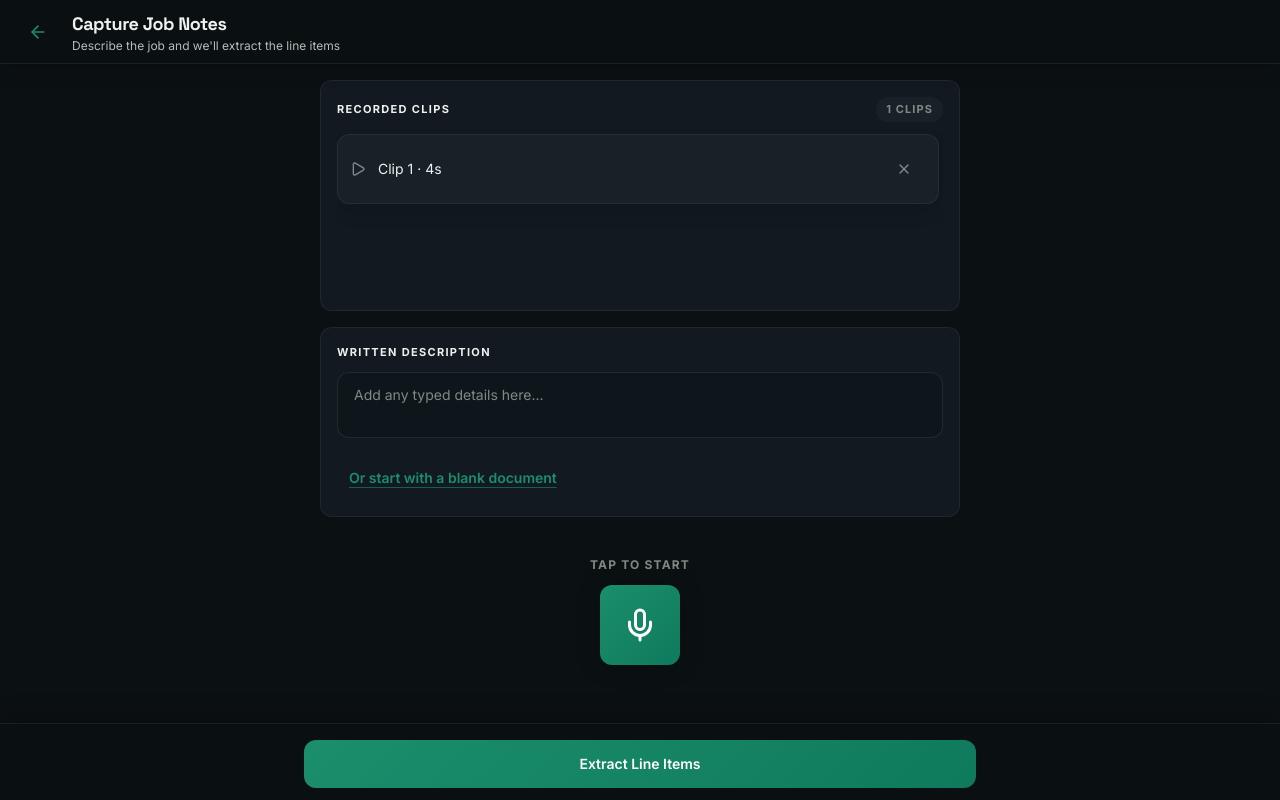
Test: CaptureScreen › preserves typed notes and recorded clips after extraction fails
The width and height of the screenshot is (1280, 800).
Type "Install sod in backyard" into the text box labelled "WRITTEN DESCRIPTION". click: coordinates (640, 405)
box: [337, 372, 943, 438]
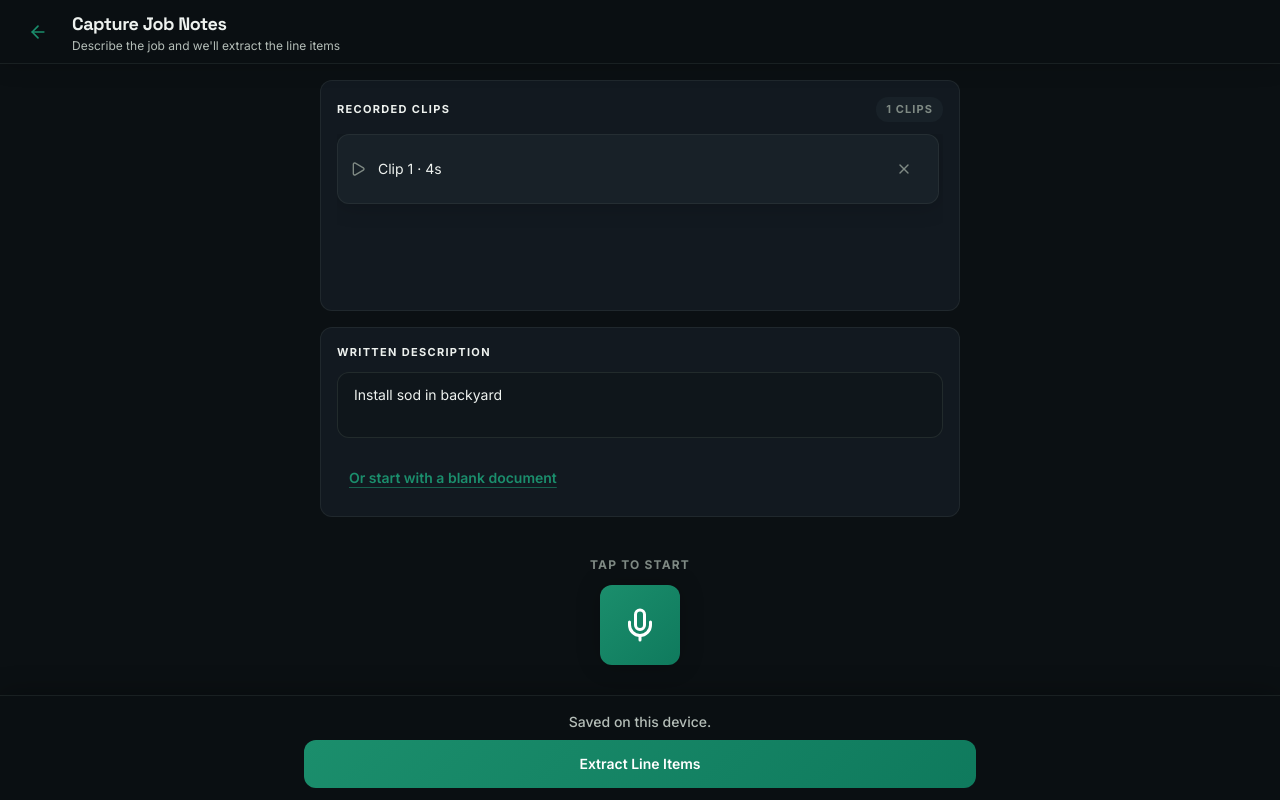
Click the button "Extract Line Items". click: coordinates (640, 764)
box: [304, 740, 976, 788]
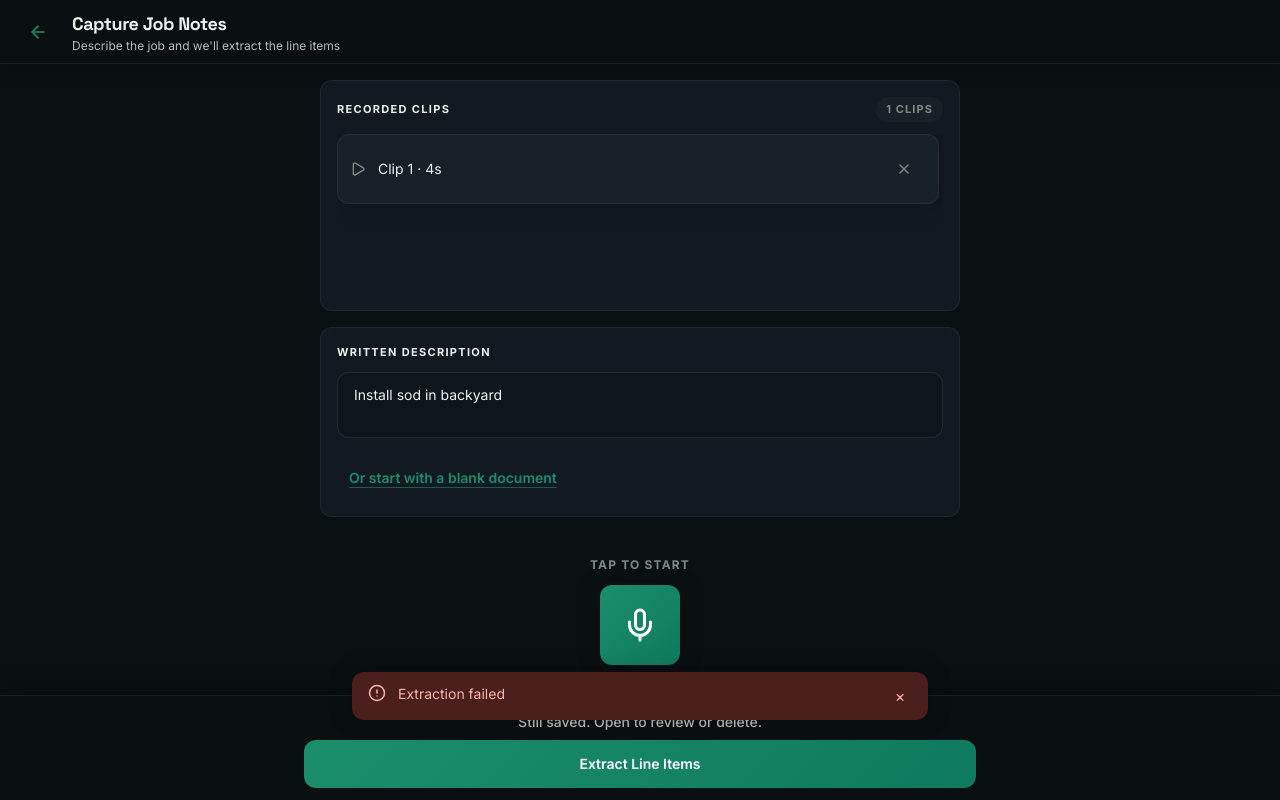
Expected: the text "Clip 1 · 4s" is shown, [378, 158, 442, 178]
Expected: the message shows "Extraction failed", [398, 685, 505, 702]
